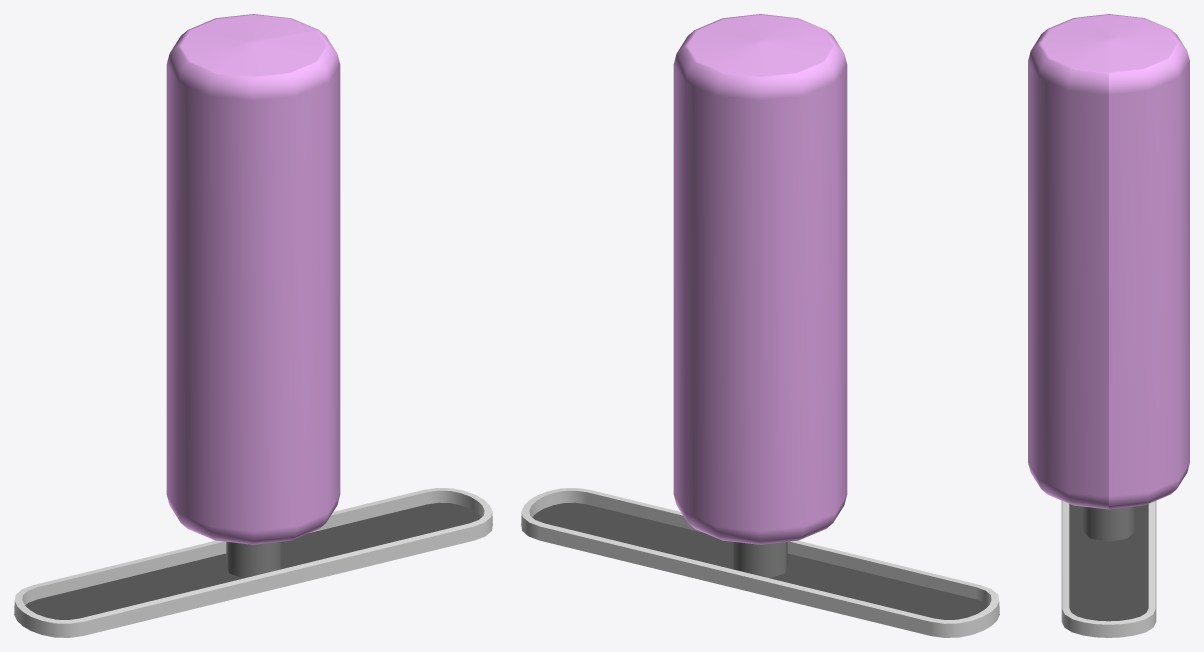
Rendered from Obstacle_46.fbx.
3 views of the same model, side by side, from view 1: azimuth 30°, elevation 25°; view 2: azimuth 150°, elevation 25°; view 3: azimuth 270°, elevation 25° (orthographic). The views are drawn at different scales.
Visible parts, largest first — view 1: Quay, De; view 2: Quay, De; view 3: Quay, De.
Part boxes in pixels (bbox=[...]): Quay: bbox=[166, 14, 340, 578]; De: bbox=[14, 488, 492, 637]; Quay: bbox=[673, 14, 847, 578]; De: bbox=[521, 488, 999, 637]; Quay: bbox=[1028, 14, 1189, 541]; De: bbox=[1061, 501, 1156, 637].
Bounding box in the file's own units: 2.75 × 3 × 0.8945.
